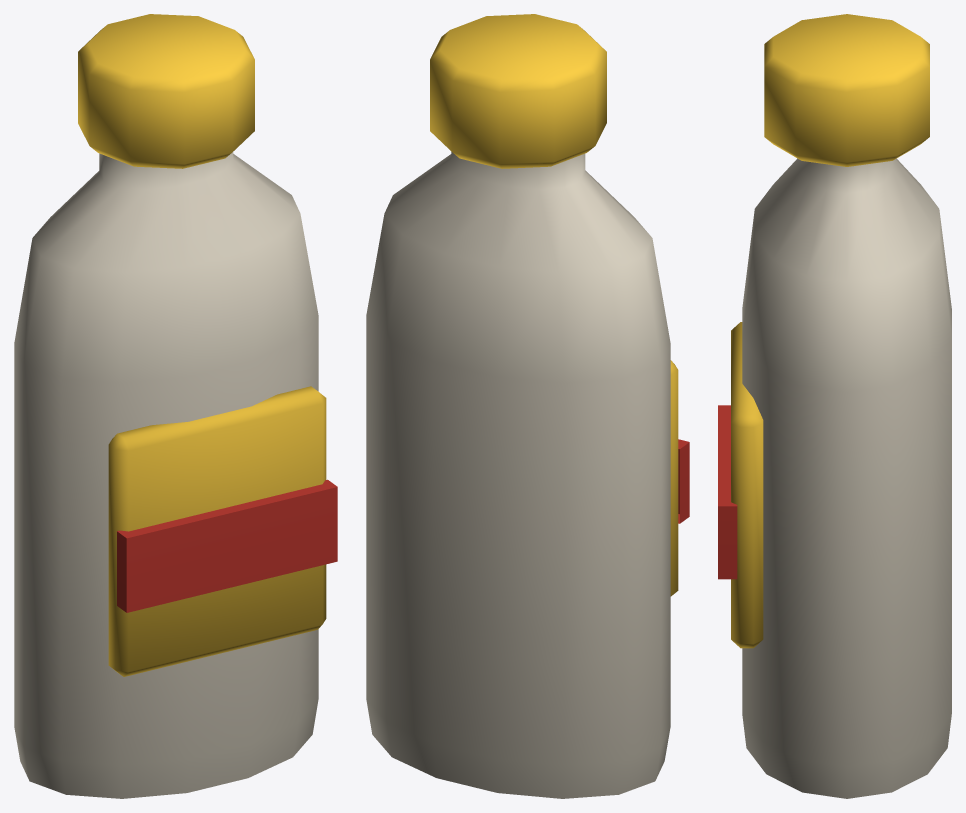
Rendered from OilBottle_01.glb.
The picture shows the model from 3 angles, left to right: view 1: azimuth 30°, elevation 25°; view 2: azimuth 150°, elevation 25°; view 3: azimuth 270°, elevation 25°; orthographic projection. The views are drawn at different scales.
Parts seen in each view (by area): view 1: SM_OilBottle_01; view 2: SM_OilBottle_01; view 3: SM_OilBottle_01.
Boxes of the visible parts, x1,y1,x2,y2 form: SM_OilBottle_01: (14, 14, 337, 798); SM_OilBottle_01: (366, 14, 689, 798); SM_OilBottle_01: (718, 14, 951, 798).
Size of the model in its own units: 0.1 by 0.235 by 0.0725.
Materials: 1 (1 with a texture image).
